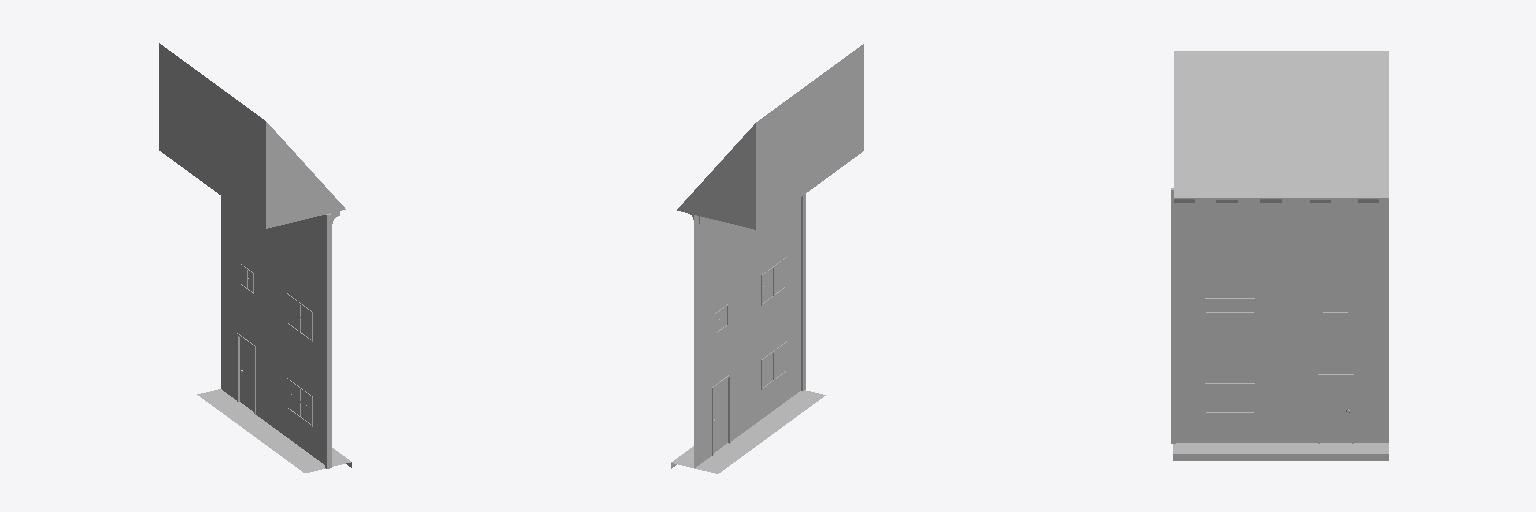
Rendered from HouseCorner.obj.
3 views of the same model, side by side, from view 1: azimuth 30°, elevation 25°; view 2: azimuth 150°, elevation 25°; view 3: azimuth 270°, elevation 25° (orthographic).
Parts seen in each view (by area): view 1: Plane.011, Plane.020, Plane.026, Plane.015, Plane.009, Plane.008, Plane.007, Plane.021, Plane.019; view 2: Plane.011, Plane.020, Plane.026, Plane.015, Plane.019, Plane.021; view 3: Plane.011, Plane.020, Plane.026, Plane.015, Plane.019, Plane.021.
Boxes of the visible parts, x1,y1,x2,y2 form: Plane.011: [221, 196, 324, 464]; Plane.020: [159, 43, 345, 228]; Plane.026: [197, 389, 351, 472]; Plane.015: [240, 338, 253, 411]; Plane.009: [325, 213, 331, 299]; Plane.008: [325, 299, 331, 384]; Plane.007: [325, 383, 331, 468]; Plane.021: [288, 296, 310, 338]; Plane.019: [288, 381, 310, 423]; Plane.011: [694, 198, 800, 467]; Plane.020: [677, 44, 863, 229]; Plane.026: [671, 390, 825, 473]; Plane.015: [714, 379, 727, 452]; Plane.019: [763, 344, 785, 386]; Plane.021: [763, 259, 785, 302]; Plane.011: [1176, 198, 1388, 442]; Plane.020: [1174, 51, 1388, 197]; Plane.026: [1173, 443, 1388, 460]; Plane.015: [1320, 377, 1351, 442]; Plane.019: [1206, 385, 1253, 411]; Plane.021: [1206, 300, 1253, 327].
Size of the model in its own units: 2.75 by 11.3 by 6.08.